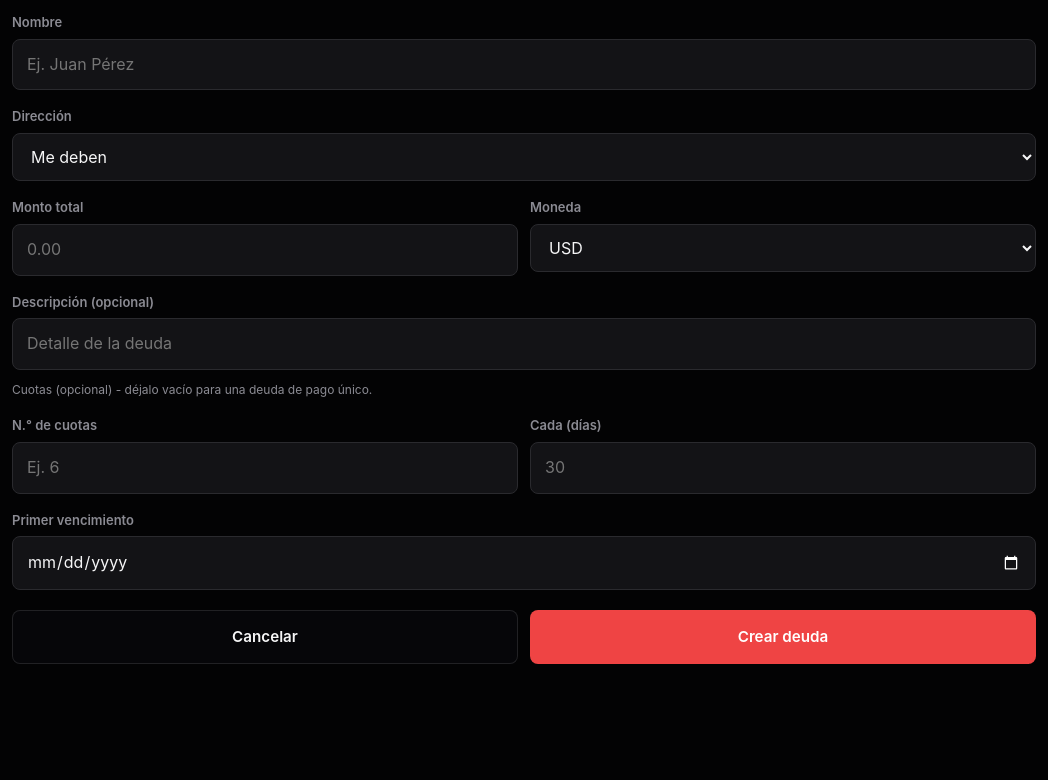
Test case: CreateDebtForm › agrupa miles en vivo mientras se escribe el monto
Type "1300" into the field labelled "Monto total".
click(265, 250); type("1300")  # box [12,224,518,276]
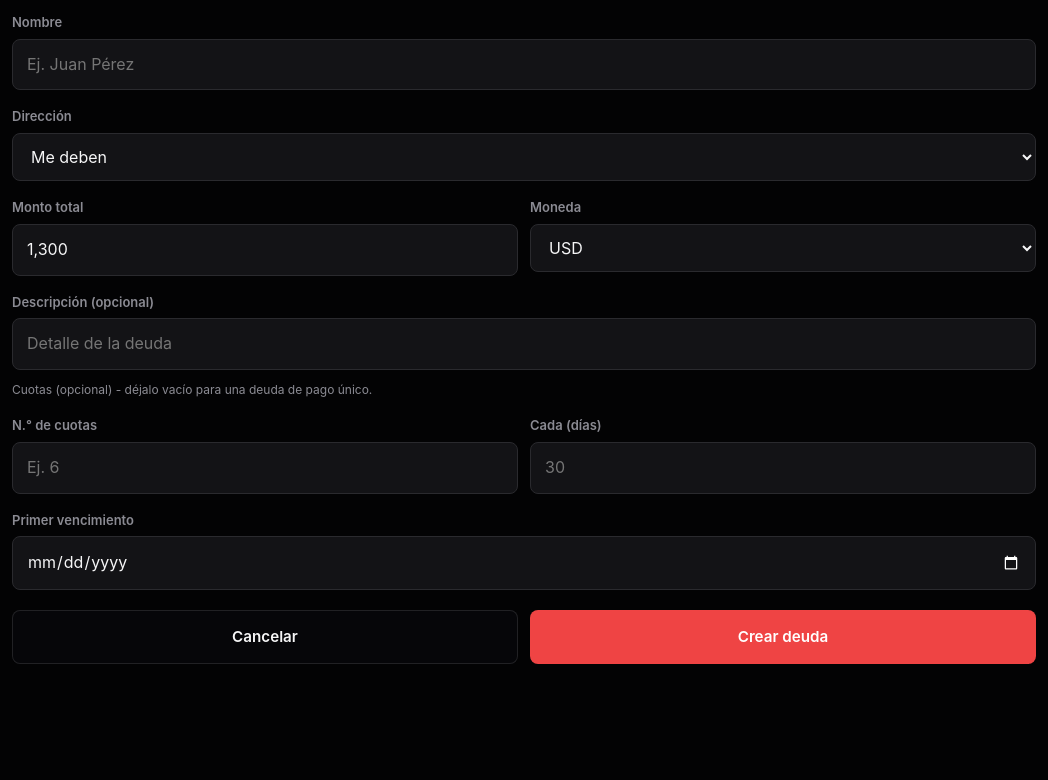
Check: the field labelled "Monto total" holds "1,300", box [12,224,518,276]
